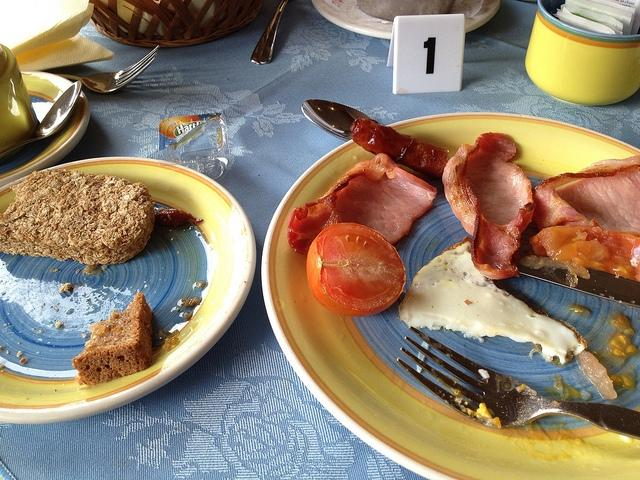tomato: (306, 222, 406, 318)
